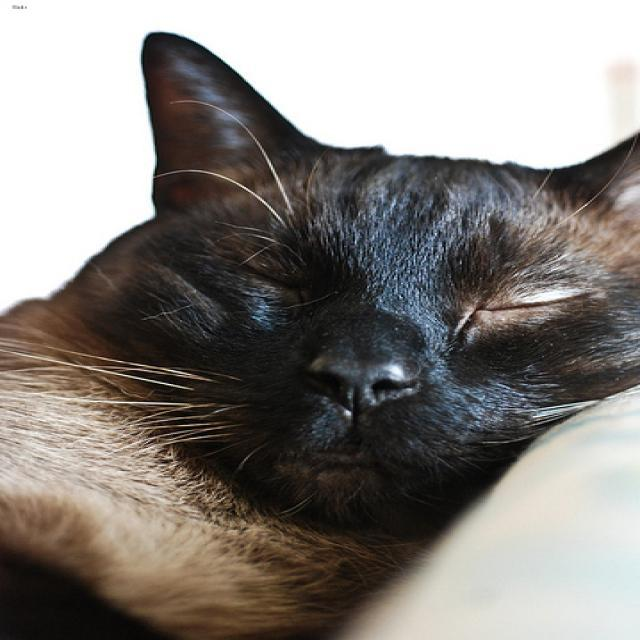Siamese: (75, 30, 640, 527)
